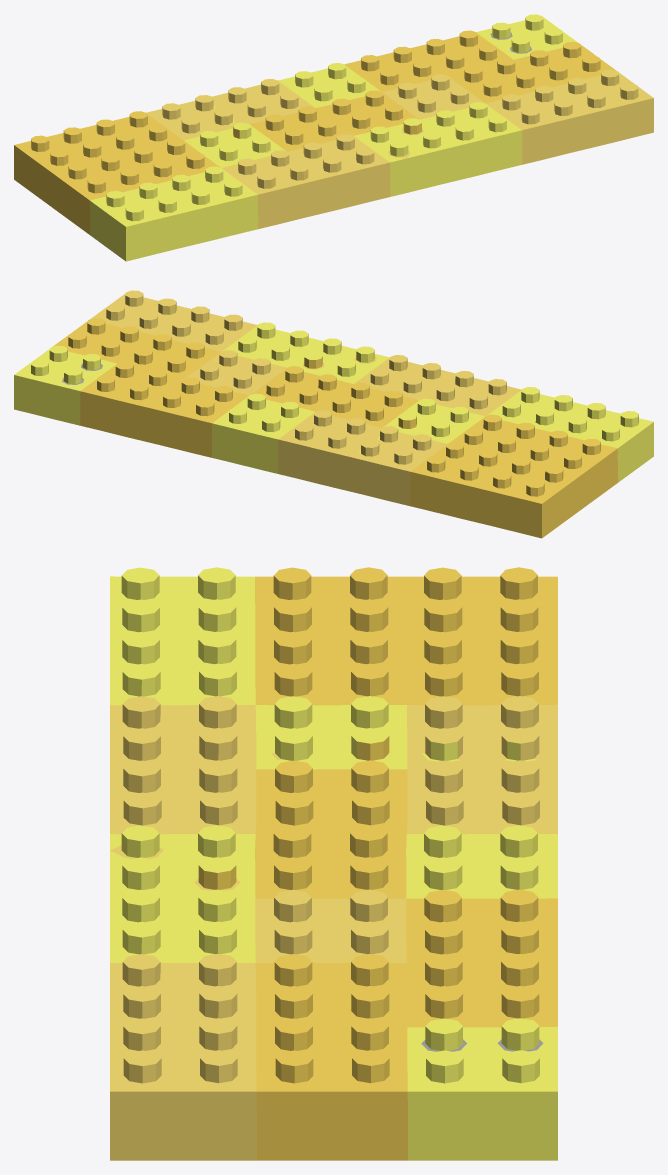
The model's file is LegoFloor.fbx.
3 renders of one model, top to bottom at view 1: azimuth 30°, elevation 25°; view 2: azimuth 150°, elevation 25°; view 3: azimuth 270°, elevation 25°, orthographic. The views are drawn at different scales.
Parts seen in each view (by area): view 1: polySurface8016; view 2: polySurface8016; view 3: polySurface8016.
Part boxes in pixels (left/top/right/bottom): polySurface8016: left=14, top=14, right=653, bottom=261; polySurface8016: left=14, top=290, right=653, bottom=538; polySurface8016: left=110, top=567, right=557, bottom=1160.
Size of the model in its own units: 98.76 by 7.76 by 36.3.
